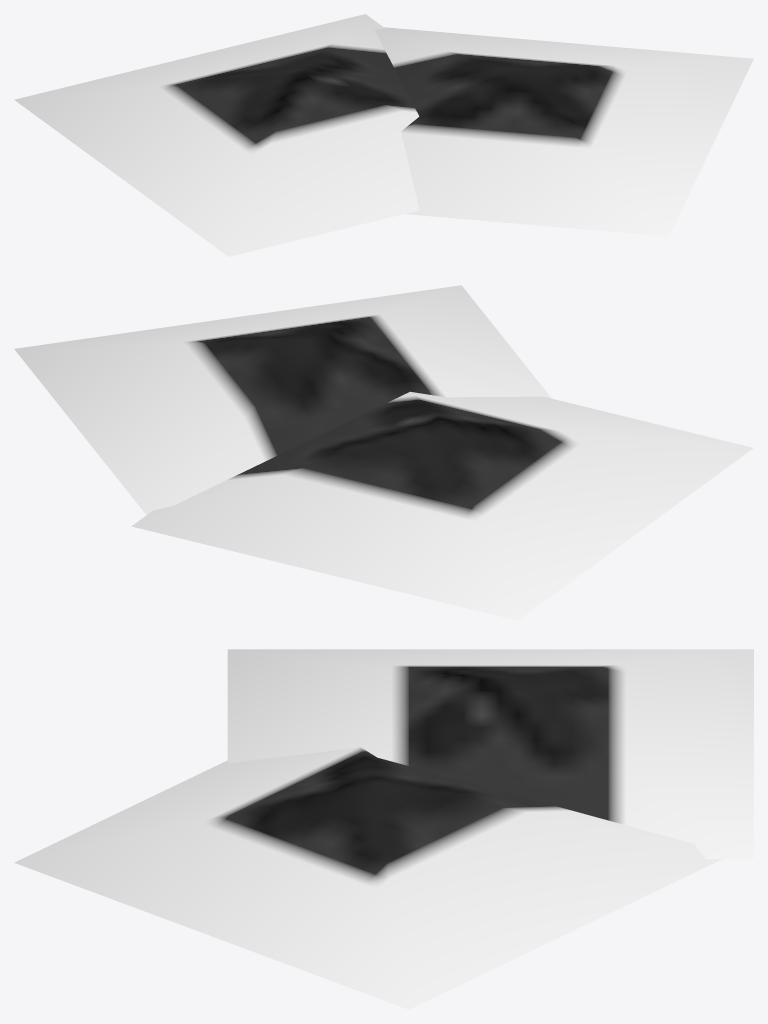
File: Pasties_Ground.fbx
The picture shows the model from 3 angles, top to bottom: view 1: azimuth 30°, elevation 25°; view 2: azimuth 150°, elevation 25°; view 3: azimuth 270°, elevation 25°; orthographic projection. The views are drawn at different scales.
Parts seen in each view (by area): view 1: G_Pasties; view 2: G_Pasties; view 3: G_Pasties.
Part boxes in pixels (left/top/right/bottom): G_Pasties: left=14, top=14, right=753, bottom=256; G_Pasties: left=14, top=285, right=753, bottom=620; G_Pasties: left=14, top=649, right=753, bottom=1009.
Size of the model in its own units: 0.1403 by 0.014 by 0.1225.
